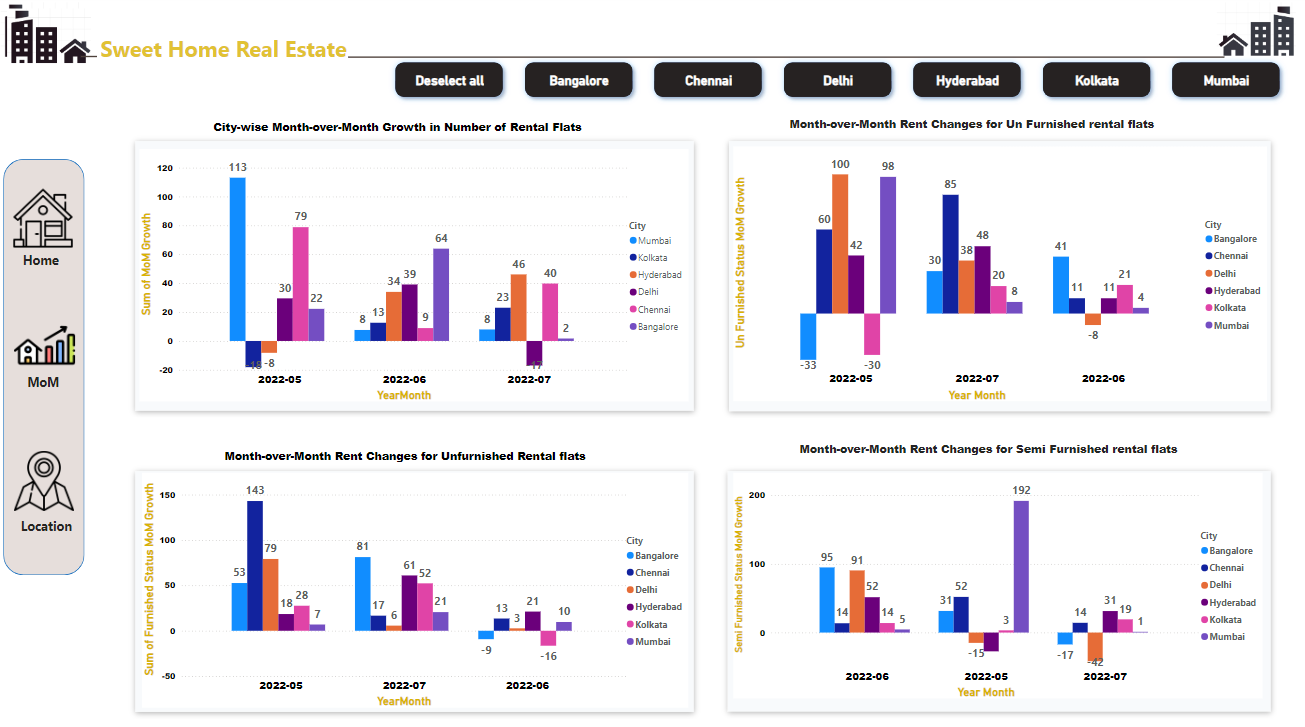

The dashboard page shown, as its layout file describes it:
{"tool":"powerbi","page":{"name":"MoM","canvas":[1920,1080],"ordinal":1},"visuals":[{"type":"shape","box":[192.6,682.3,840.1,374.2],"z":0},{"type":"image","title":"MoM_color","box":[21.2,457.8,99,99],"z":1000,"group":"g4"},{"type":"image","title":"Map_bw","box":[19.8,658,97.5,97.5],"z":1000,"group":"g5"},{"type":"shape","box":[1062.5,682.8,817.2,373.4],"z":1000},{"type":"shape","box":[1064.4,198.3,815.3,416.9],"z":2000},{"type":"image","title":"houseBW","box":[18.1,273.2,99,97.2],"z":2000,"group":"g3"},{"type":"image","box":[0,0,133.9,89.9],"z":3000},{"type":"shape","box":[192.6,198.1,840.1,416.4],"z":3000,"group":"g1"},{"type":"textbox","box":[146.7,46.5,399.9,55],"z":4000},{"type":"image","box":[1775.1,0,144.9,88],"z":5000},{"type":"shape","box":[515.4,80.7,1285.8,9.2],"z":6000},{"type":"clusteredColumnChart","fields":{"Category":["AvgRentPerMonthFurnishedStatus.YearMonth"],"Y":["Sum(AvgRentPerMonthFurnishedStatus.Furnished Status MoM Growth)"],"Series":["AvgRentPerMonthFurnishedStatus.City"]},"box":[1079.7,215.6,782.8,373.4],"z":7000},{"type":"textbox","box":[317.3,176.1,588.8,22],"z":8000},{"type":"textbox","box":[1162.9,172.4,618.1,38.5],"z":9000},{"type":"clusteredColumnChart","fields":{"Category":["AvgRentPerMonth.YearMonth"],"Series":["AvgRentPerMonth.City"],"Y":["Sum(AvgRentPerMonth.MoM Growth)"]},"box":[209.6,219.3,805.2,370.5],"z":9000,"group":"g1"},{"type":"clusteredColumnChart","fields":{"Category":["AvgRentPerMonthFurnishedStatus.YearMonth"],"Y":["Sum(AvgRentPerMonthFurnishedStatus.Furnished Status MoM Growth)"],"Series":["AvgRentPerMonthFurnishedStatus.City"]},"box":[212.8,695.2,801.6,344.8],"z":10000},{"type":"clusteredColumnChart","fields":{"Category":["AvgRentPerMonthSemiFurnishedStatus.YearMonth"],"Y":["Sum(AvgRentPerMonthSemiFurnishedStatus.Semi Furnished Status MoM Growth)"],"Series":["AvgRentPerMonthSemiFurnishedStatus.City"]},"box":[1079.7,695.3,776.6,331.2],"z":11000},{"type":"textbox","box":[1177.6,649.3,623.6,33],"z":12000},{"type":"textbox","box":[333.8,658.5,680.5,36.7],"z":13000},{"type":"group","id":"g1","title":"Group 1","box":[192.6,198.1,840.1,416.4],"z":14000},{"type":"image","box":[10,10,133.9,89.9],"z":15000},{"type":"shape","box":[122.9,78.9,23.8,11],"z":16000},{"type":"advancedSlicerVisual","fields":{"Values":["House_Rent_Dataset.City"]},"box":[571.9,81.2,1326.6,75],"z":20000},{"type":"group","id":"g2","title":"leftMenu","box":[9.3,234.6,119.2,610.7],"z":21000},{"type":"shape","title":"leftMenuBox","box":[9.3,234.6,119.2,610.7],"z":28125,"group":"g2"},{"type":"textbox","title":"location","box":[18.3,755.7,108.2,42.2],"z":28187,"group":"g2"},{"type":"textbox","title":"Home","box":[9.6,365.2,110,42.5],"z":28250,"group":"g2"},{"type":"textbox","title":"MoM","box":[13.3,545.4,110,42.5],"z":28500,"group":"g2"},{"type":"group","id":"g3","title":"House","box":[18.1,273.2,99,100.2],"z":30000,"group":"g2"},{"type":"group","id":"g4","title":"MoM","box":[20.8,457.8,99.4,100.1],"z":31000,"group":"g2"},{"type":"group","id":"g5","title":"Map","box":[19.8,658,99.4,100.9],"z":32000,"group":"g2"}]}

Visuals, with their boxes in screenshot pixels (x1, y1, x2, y2), scaled from the page's 1920x1080 canvas onto the 1305x727 screenshot:
shape: bbox(131, 459, 702, 711)
"MoM_color" image: bbox(14, 308, 82, 375)
"Map_bw" image: bbox(13, 443, 80, 509)
shape: bbox(722, 460, 1278, 711)
shape: bbox(723, 133, 1278, 414)
"houseBW" image: bbox(12, 184, 80, 249)
image: bbox(0, 0, 91, 61)
shape: bbox(131, 133, 702, 414)
textbox: bbox(100, 31, 372, 68)
image: bbox(1207, 0, 1304, 59)
shape: bbox(350, 54, 1224, 61)
clusteredColumnChart - AvgRentPerMonthFurnishedStatus.YearMonth x Sum(AvgRentPerMonthFurnishedStatus.Furnished Status MoM Growth): bbox(734, 145, 1266, 396)
textbox: bbox(216, 119, 616, 133)
textbox: bbox(790, 116, 1211, 142)
clusteredColumnChart - AvgRentPerMonth.YearMonth x AvgRentPerMonth.City: bbox(142, 148, 690, 397)
clusteredColumnChart - AvgRentPerMonthFurnishedStatus.YearMonth x Sum(AvgRentPerMonthFurnishedStatus.Furnished Status MoM Growth): bbox(145, 468, 689, 700)
clusteredColumnChart - AvgRentPerMonthSemiFurnishedStatus.YearMonth x Sum(AvgRentPerMonthSemiFurnishedStatus.Semi Furnished Status MoM Growth): bbox(734, 468, 1262, 691)
textbox: bbox(800, 437, 1224, 459)
textbox: bbox(227, 443, 689, 468)
"Group 1" group: bbox(131, 133, 702, 414)
image: bbox(7, 7, 98, 67)
shape: bbox(84, 53, 100, 61)
advancedSlicerVisual - House_Rent_Dataset.City: bbox(389, 55, 1290, 105)
"leftMenu" group: bbox(6, 158, 87, 569)
"leftMenuBox" shape: bbox(6, 158, 87, 569)
"location" textbox: bbox(12, 509, 86, 537)
"Home" textbox: bbox(7, 246, 81, 274)
"MoM" textbox: bbox(9, 367, 84, 396)
"House" group: bbox(12, 184, 80, 251)
"MoM" group: bbox(14, 308, 82, 376)
"Map" group: bbox(13, 443, 81, 511)
